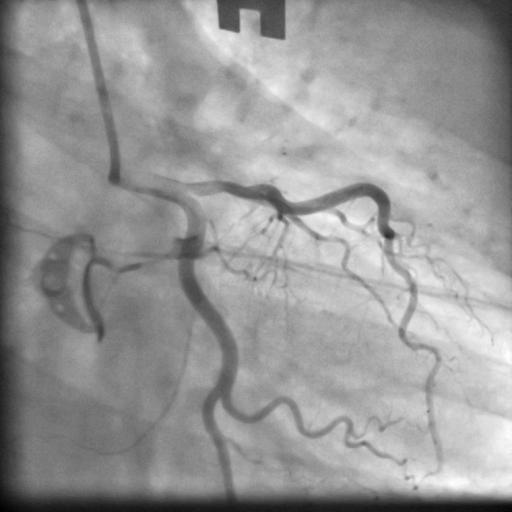Stenosis: (205, 176, 254, 197)
